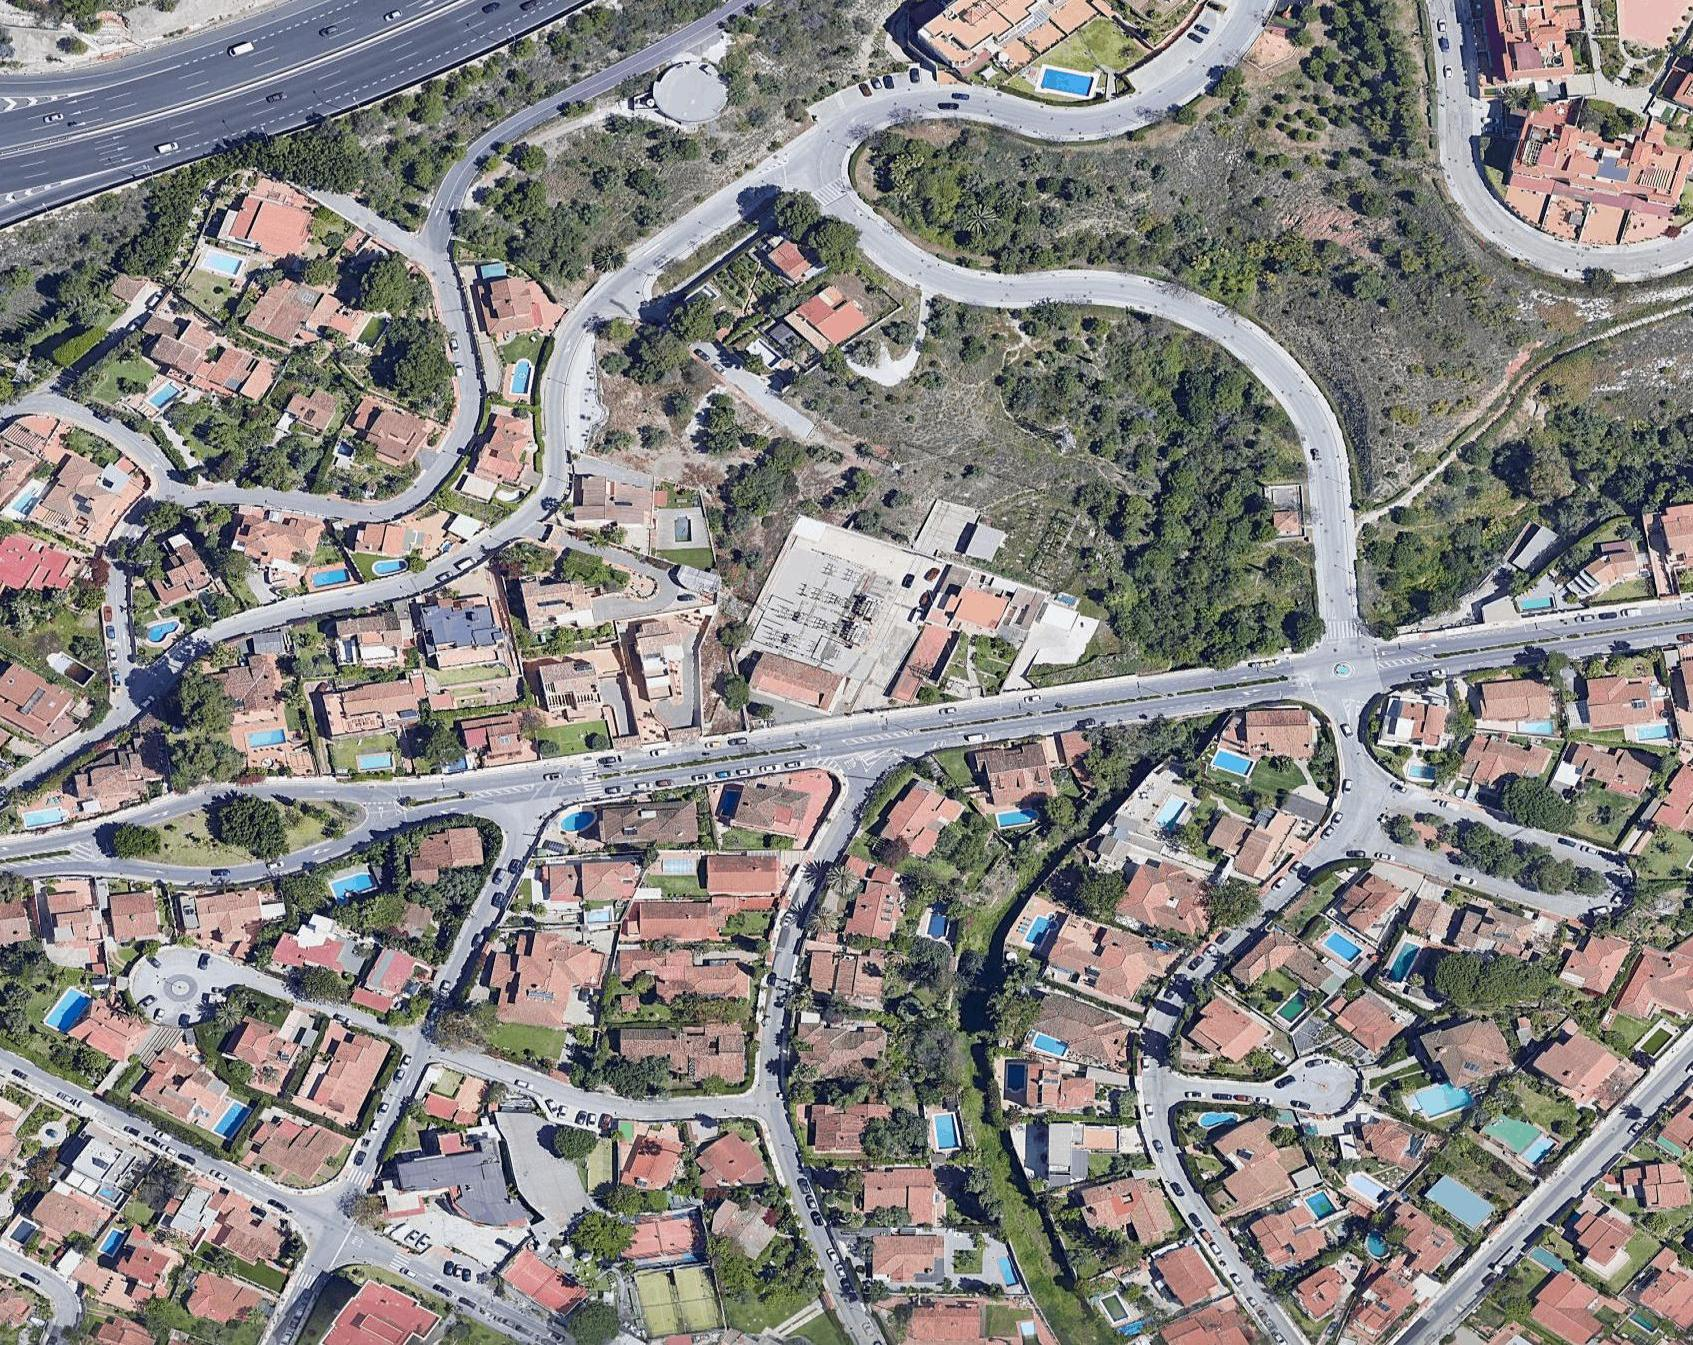substation: (748, 544, 900, 672)
